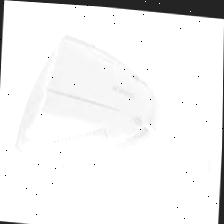mask: (9, 26, 217, 199)
